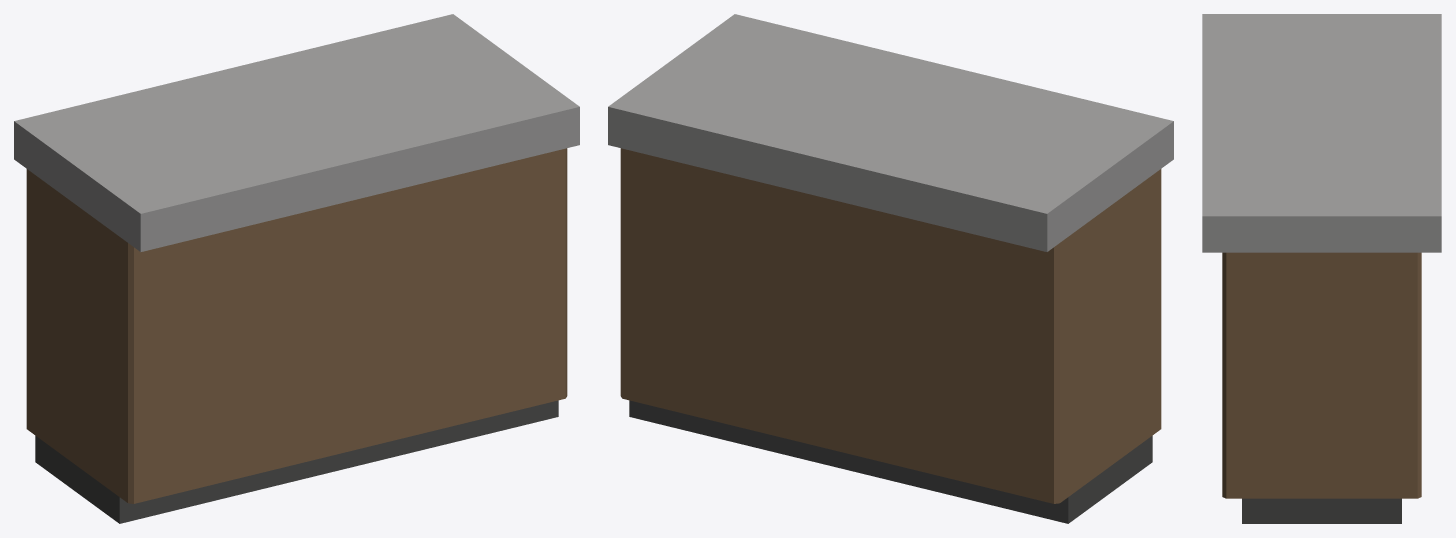
File: SM_Props_Interior_Shop_Counter_Modular_02.fbx
The picture shows the model from 3 angles, left to right: view 1: azimuth 30°, elevation 25°; view 2: azimuth 150°, elevation 25°; view 3: azimuth 270°, elevation 25°; orthographic projection. The views are drawn at different scales.
Visible parts, largest first — view 1: SM_Props_Interior_Shop_Counter_Modular_02; view 2: SM_Props_Interior_Shop_Counter_Modular_02; view 3: SM_Props_Interior_Shop_Counter_Modular_02.
Part boxes in pixels (x1,y1,x2,y2): SM_Props_Interior_Shop_Counter_Modular_02: [14, 14, 579, 523]; SM_Props_Interior_Shop_Counter_Modular_02: [608, 14, 1173, 523]; SM_Props_Interior_Shop_Counter_Modular_02: [1202, 14, 1441, 523].
Bounding box in the file's own units: 120 × 85 × 60.
